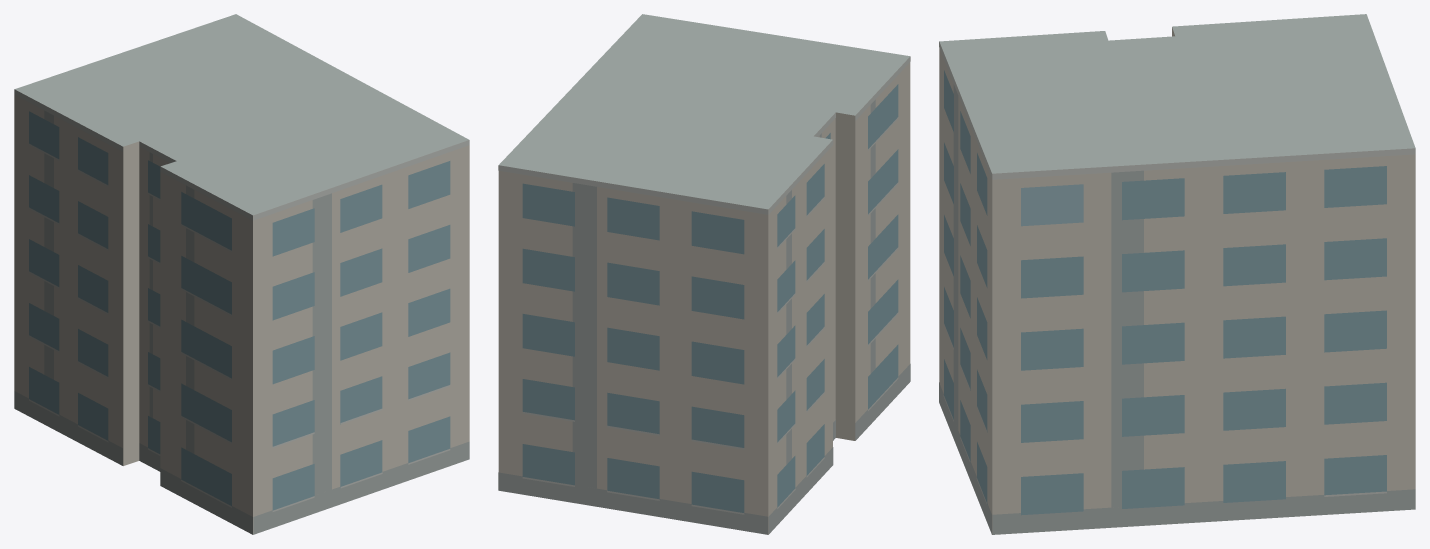
File: survey-upis-32576433.glb
The picture shows the model from 3 angles, left to right: view 1: azimuth 30°, elevation 25°; view 2: azimuth 150°, elevation 25°; view 3: azimuth 270°, elevation 25°; orthographic projection. The views are drawn at different scales.
Parts seen in each view (by area): view 1: survey-upis-32576433.tmp; view 2: survey-upis-32576433.tmp; view 3: survey-upis-32576433.tmp.
Boxes of the visible parts, left/top/right/bottom form: survey-upis-32576433.tmp: left=14, top=14, right=469, bottom=534; survey-upis-32576433.tmp: left=498, top=14, right=910, bottom=534; survey-upis-32576433.tmp: left=939, top=14, right=1415, bottom=534.
Bounding box in the file's own units: 13.76 × 14.5 × 17.34.
